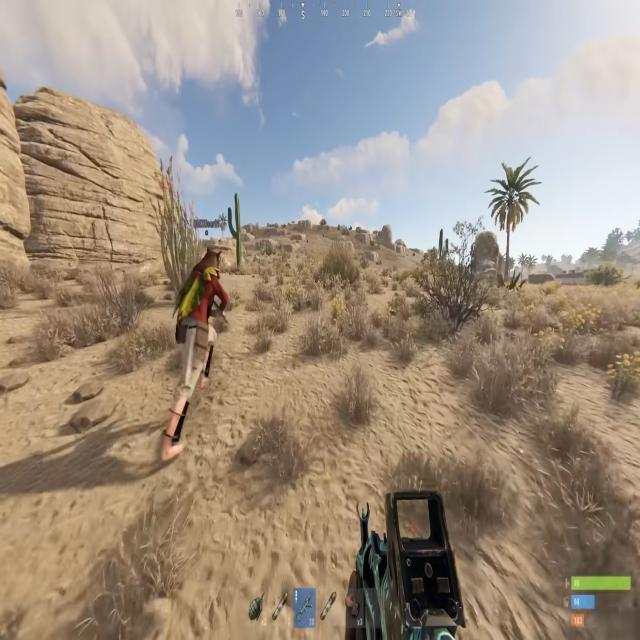Player: (160, 244, 229, 469)
